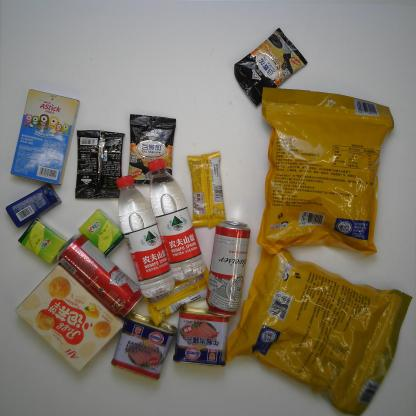Alcohol: (58, 232, 141, 316), (204, 220, 254, 318)
Canned Food: (118, 309, 173, 380), (172, 304, 227, 368)
Chocolate: (146, 264, 213, 322), (184, 153, 229, 232)
Dessert: (16, 263, 121, 373), (7, 88, 81, 183)
Dried Food: (229, 242, 410, 413), (256, 86, 389, 261)
Drink: (110, 176, 179, 299), (143, 160, 208, 284)
Instant Drink: (234, 25, 309, 107), (70, 125, 126, 202), (126, 116, 178, 188)
Personal Hygiene: (4, 183, 63, 227)
Tissue: (75, 210, 124, 260), (18, 218, 58, 265)
